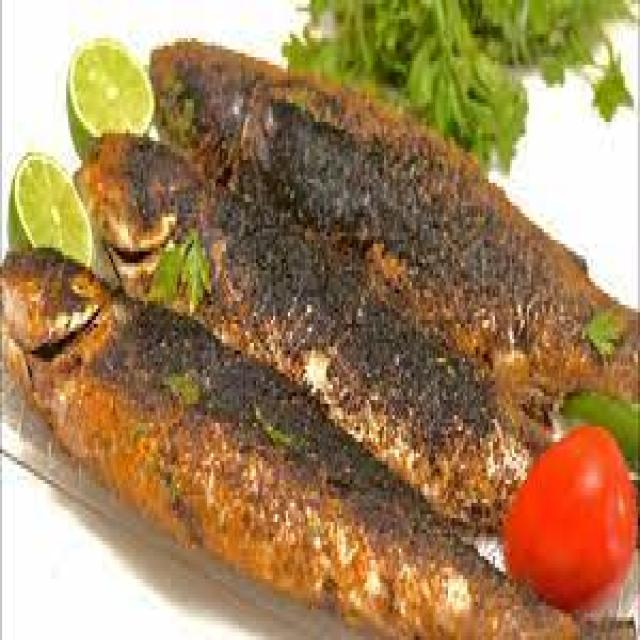Peixe: (2, 34, 636, 636)
